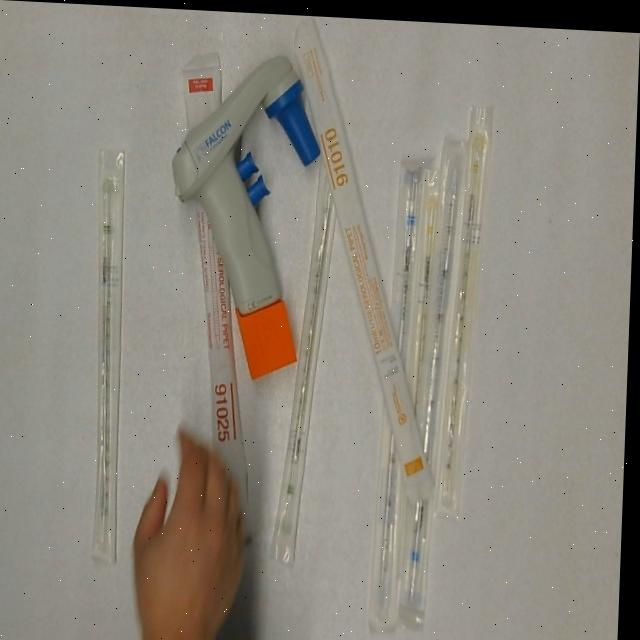Pipette Controller: (164, 49, 327, 383)
Serelogical Pipet 1 mL: (435, 97, 501, 514), (405, 161, 450, 415)
Serelogical Pipet 10 mL: (281, 16, 450, 501)
Serelogical Pipet 2 mL: (271, 143, 347, 562), (89, 145, 135, 566)
Serelogical Pipet 25 mL: (166, 43, 278, 545)
Serelogical Pipet 5 mL: (403, 131, 472, 612), (371, 144, 431, 628)
